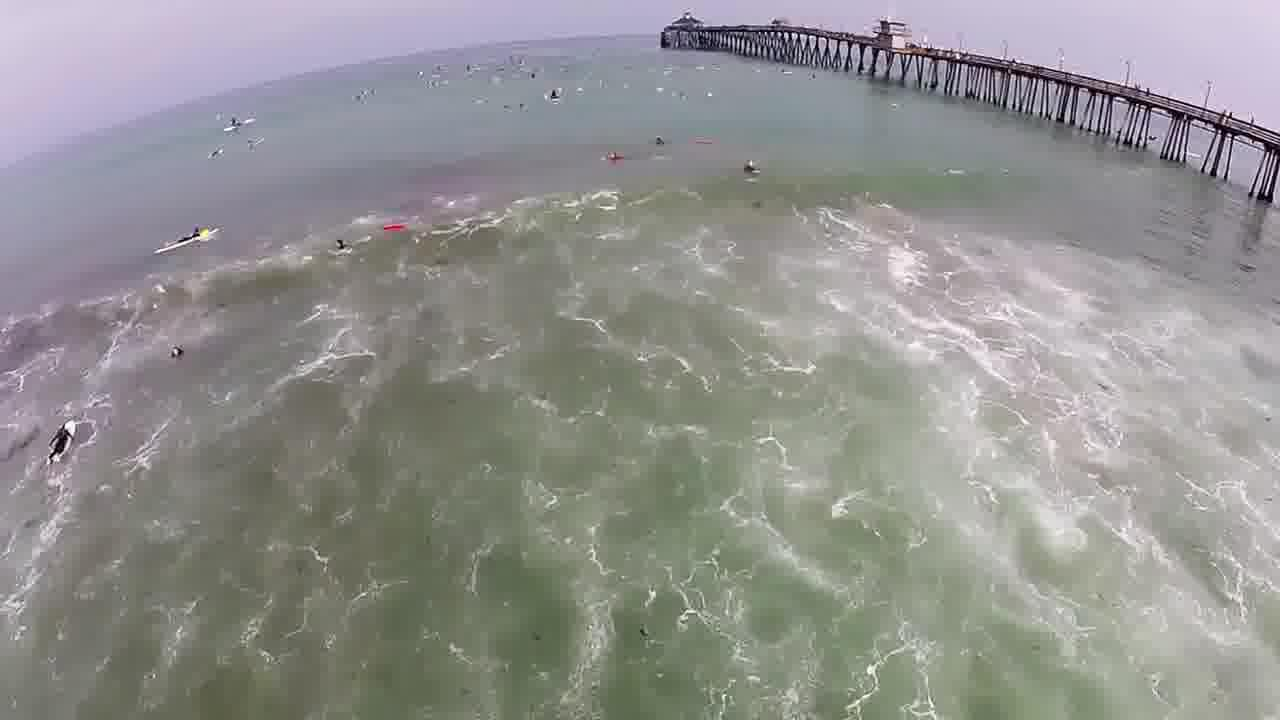human: (43, 419, 74, 464), (733, 155, 765, 180), (153, 344, 197, 359)
